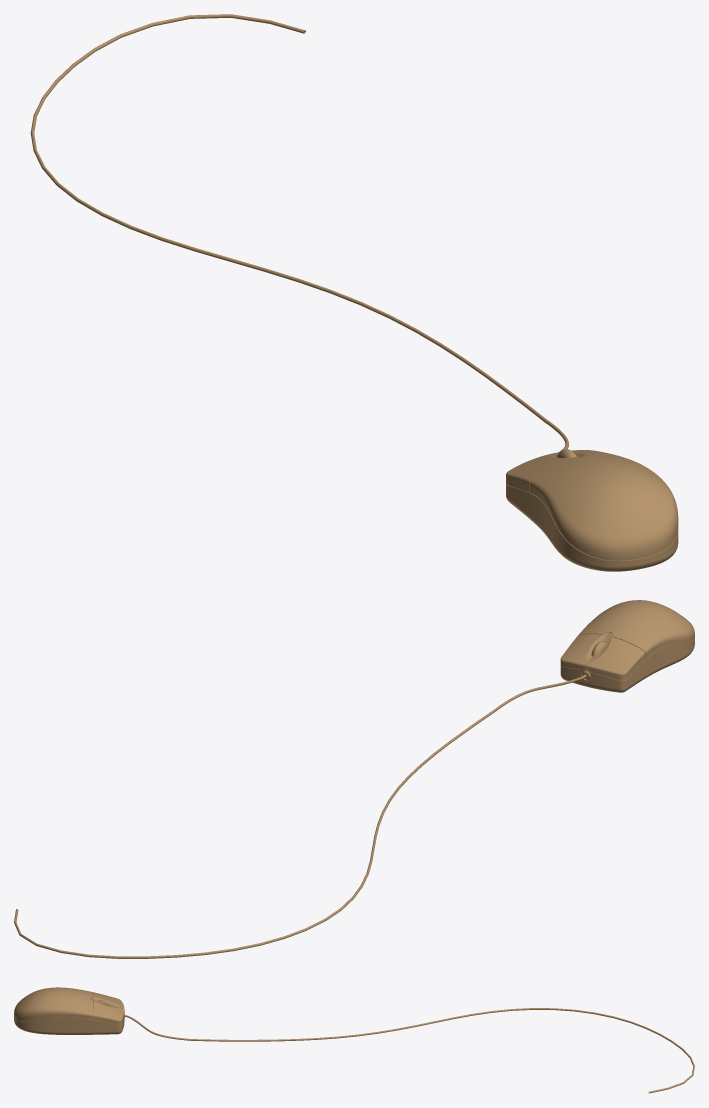
Rendered from Computer_Gen_1_Mouse.fbx.
The picture shows the model from 3 angles, top to bottom: view 1: azimuth 30°, elevation 25°; view 2: azimuth 150°, elevation 25°; view 3: azimuth 270°, elevation 25°; orthographic projection. The views are drawn at different scales.
Visible parts, largest first — view 1: polySurface189; view 2: polySurface189; view 3: polySurface189.
Part boxes in pixels (x1,y1,x2,y2): polySurface189: (30, 14, 678, 571); polySurface189: (14, 600, 694, 958); polySurface189: (14, 987, 694, 1093).
Size of the model in its own units: 21.76 by 3.98 by 73.91.
